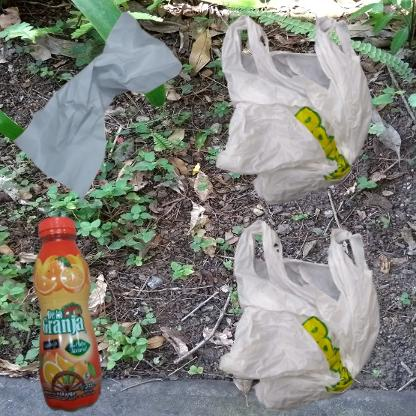bolsa: (213, 213, 398, 416), (213, 10, 379, 213)
botella: (10, 213, 137, 416)
papel: (10, 10, 185, 206)
